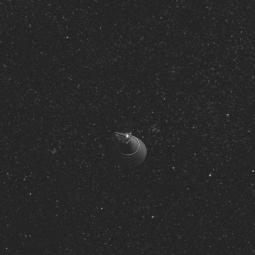debris: (111, 125, 154, 168)
